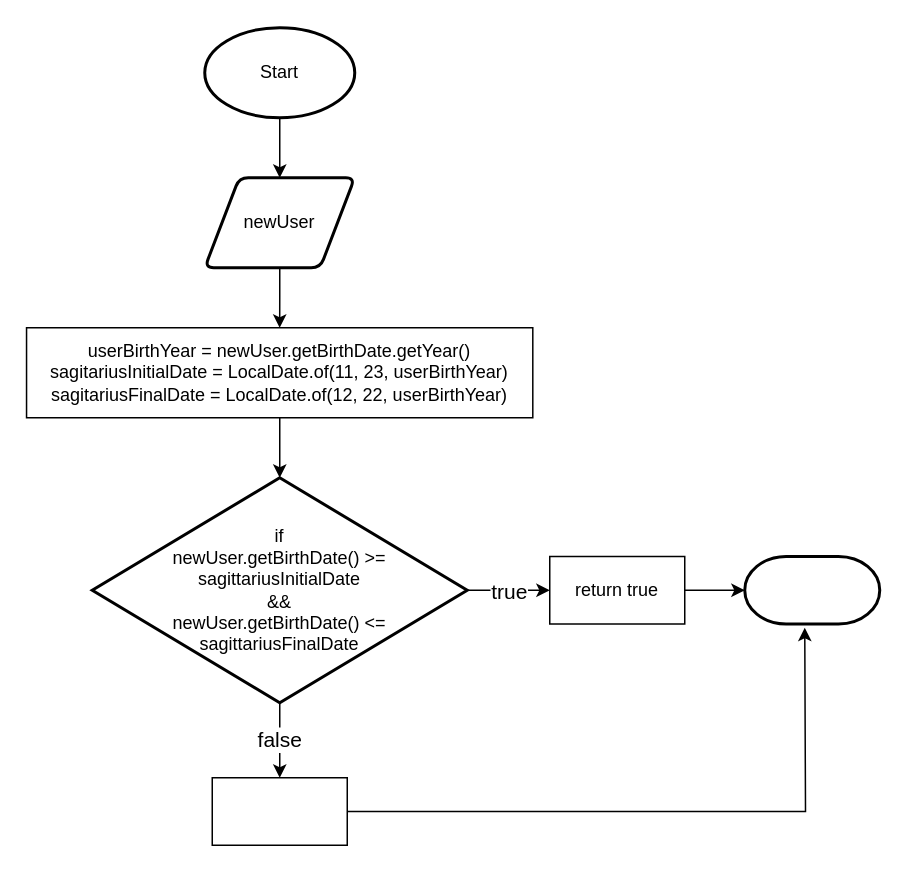
The diagram is 908 pixels wide and 872 high, and some of its shapes have lost their labels. Each missing label, with the centre of its shape:
"End" belongs at point 811,589.
"return false" belongs at point 279,810.
